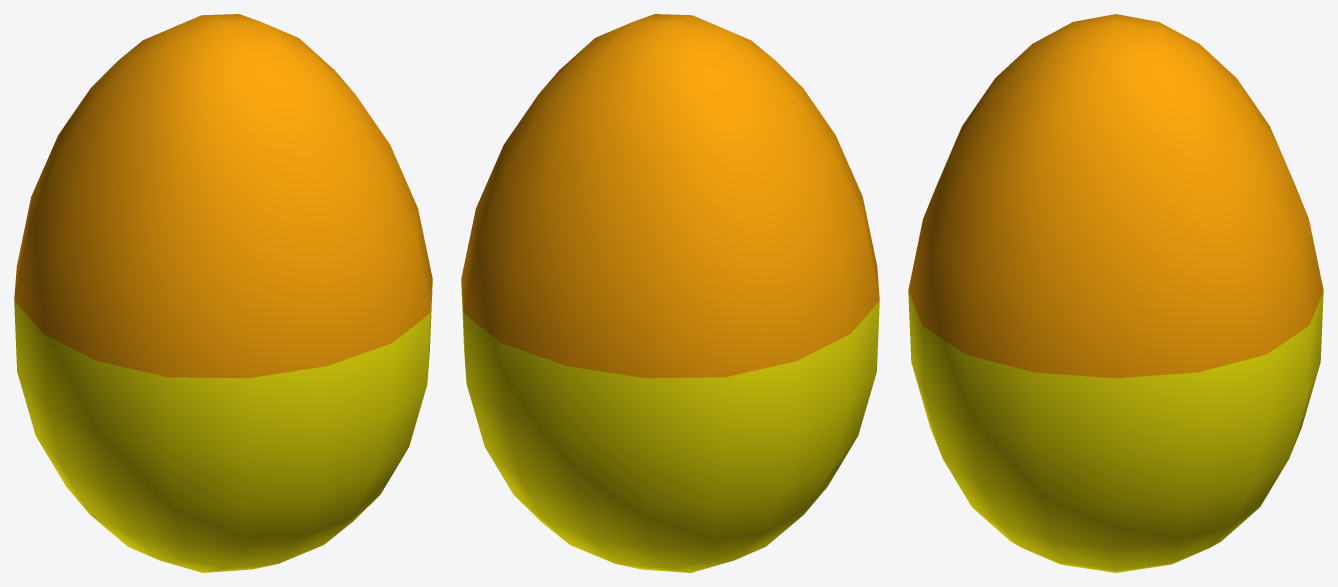
The model's file is Egg.fbx.
3 views of the same model, side by side, from view 1: azimuth 30°, elevation 25°; view 2: azimuth 150°, elevation 25°; view 3: azimuth 270°, elevation 25° (orthographic).
Parts seen in each view (by area): view 1: Egg; view 2: Egg; view 3: Egg.
Boxes of the visible parts, bbox=[...] form: Egg: bbox=[14, 14, 432, 572]; Egg: bbox=[461, 14, 879, 572]; Egg: bbox=[908, 14, 1323, 572].
Bounding box in the file's own units: 53.33 × 75.49 × 53.33.
1 material, 1 textured.
